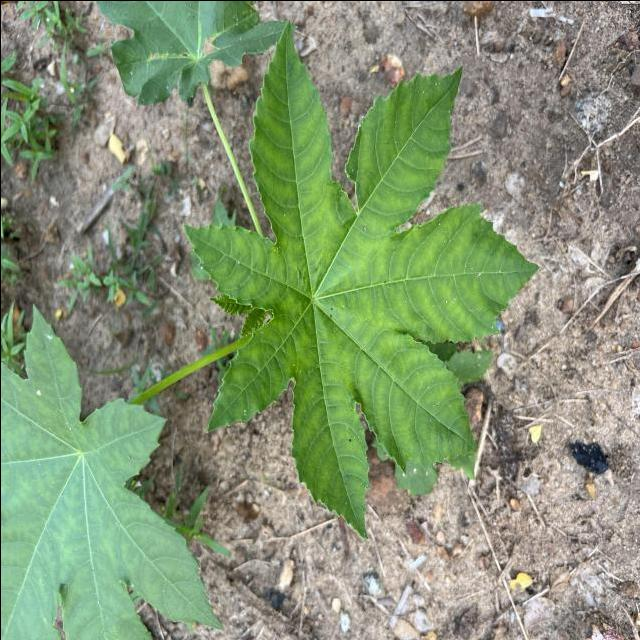Ricinus communis linn: (178, 16, 544, 546)
